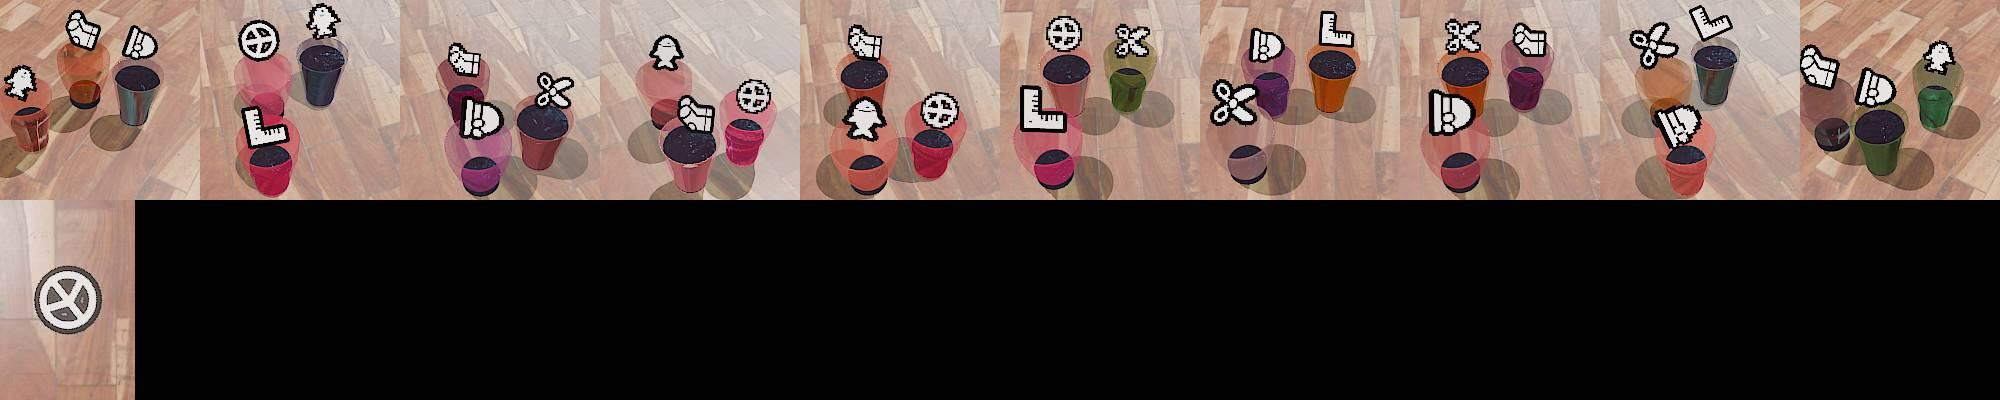icon: (32, 264, 106, 335), (1629, 19, 1680, 70), (1018, 83, 1068, 134), (1652, 102, 1704, 150), (1210, 76, 1259, 125), (1430, 87, 1477, 136), (240, 104, 291, 148), (842, 93, 886, 141), (458, 94, 504, 140), (1800, 45, 1841, 90), (1855, 68, 1898, 110), (237, 19, 281, 61), (1689, 4, 1733, 41), (676, 94, 716, 135), (534, 71, 575, 110), (65, 9, 102, 51), (1443, 18, 1482, 56), (921, 90, 960, 129), (1318, 10, 1355, 51), (304, 3, 342, 41), (846, 23, 883, 61), (648, 33, 685, 71), (1112, 22, 1151, 59), (1247, 27, 1286, 64), (1511, 22, 1548, 60), (1045, 15, 1082, 54), (121, 24, 158, 61), (3, 65, 38, 102), (448, 42, 482, 78), (736, 78, 770, 113), (1921, 41, 1955, 75)
